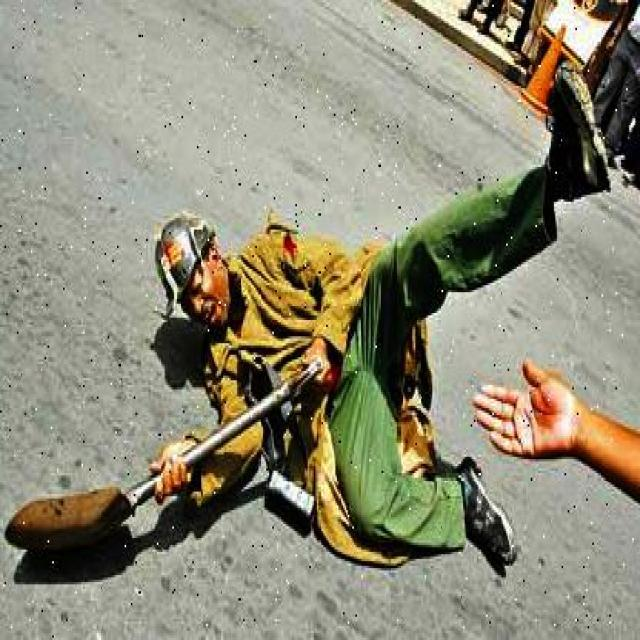fall: (146, 162, 534, 566)
